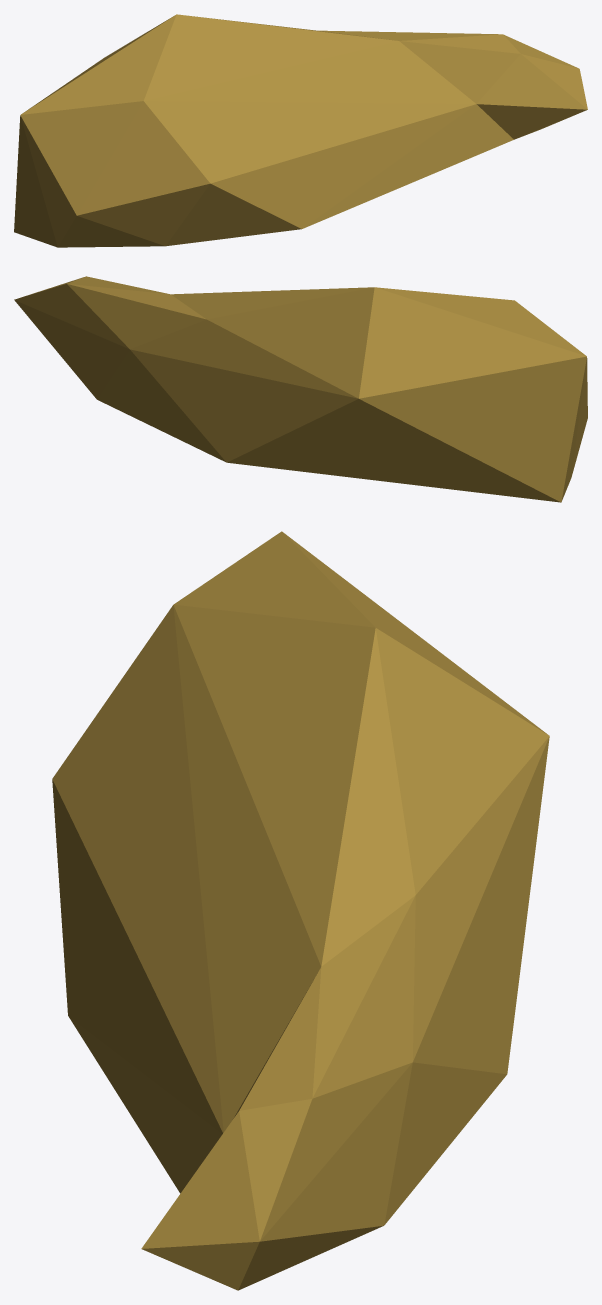
File: co_Bush05_B.fbx
3 renders of one model, top to bottom at view 1: azimuth 30°, elevation 25°; view 2: azimuth 150°, elevation 25°; view 3: azimuth 270°, elevation 25°, orthographic. The views are drawn at different scales.
Parts seen in each view (by area): view 1: Bush05_B; view 2: Bush05_B; view 3: Bush05_B.
Boxes of the visible parts, box(x1,y1,x2,y2) form: Bush05_B: box(14, 14, 587, 247); Bush05_B: box(14, 276, 587, 502); Bush05_B: box(52, 531, 549, 1290).
Size of the model in its own units: 12.73 by 3.74 by 4.95.
